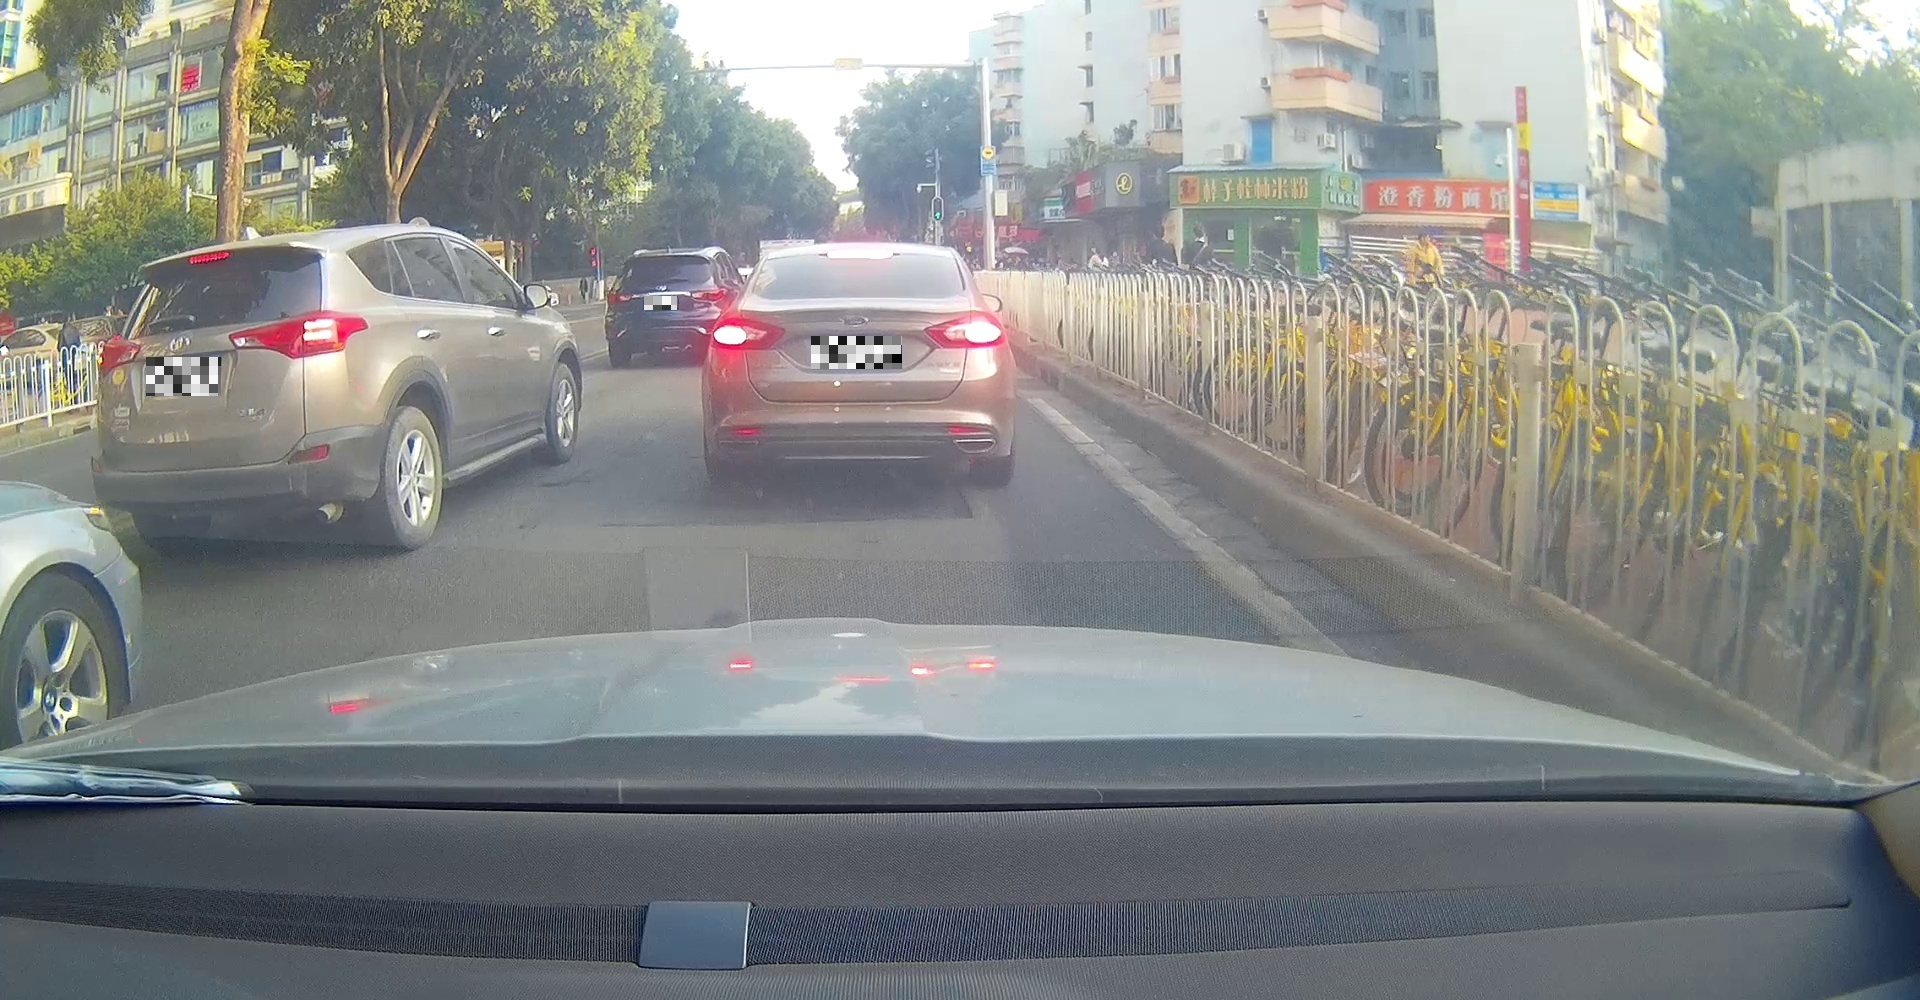L_light: (707, 316, 786, 350), (95, 336, 143, 377)
R_light: (227, 308, 370, 362), (923, 310, 1007, 349)
T_light: (827, 250, 894, 260), (187, 250, 231, 265)
day-brake: (90, 237, 370, 552), (702, 241, 1016, 478)
plate_1: (146, 357, 221, 396)
plate_2: (811, 336, 902, 369)
plate_3: (644, 296, 677, 310)
